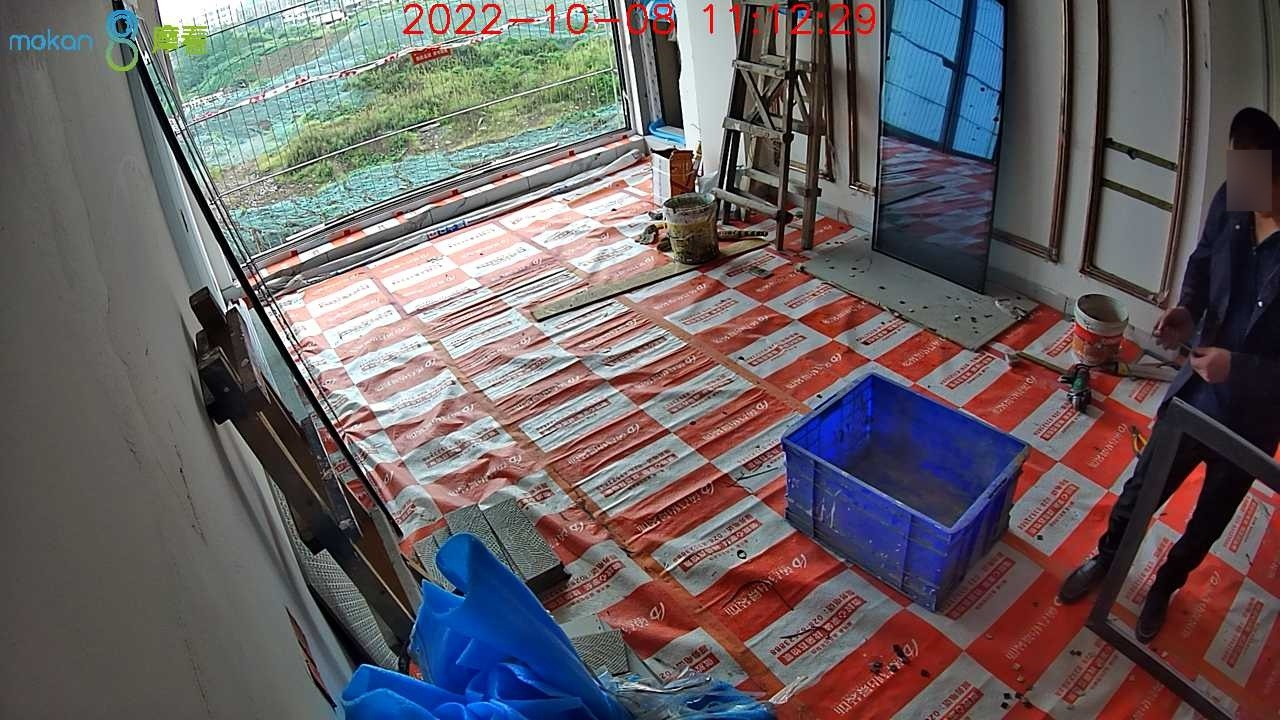people: (1059, 107, 1280, 641)
window: (141, 7, 631, 256)
